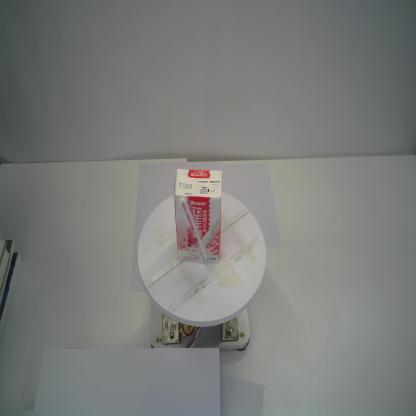Milk: (172, 166, 222, 264)
